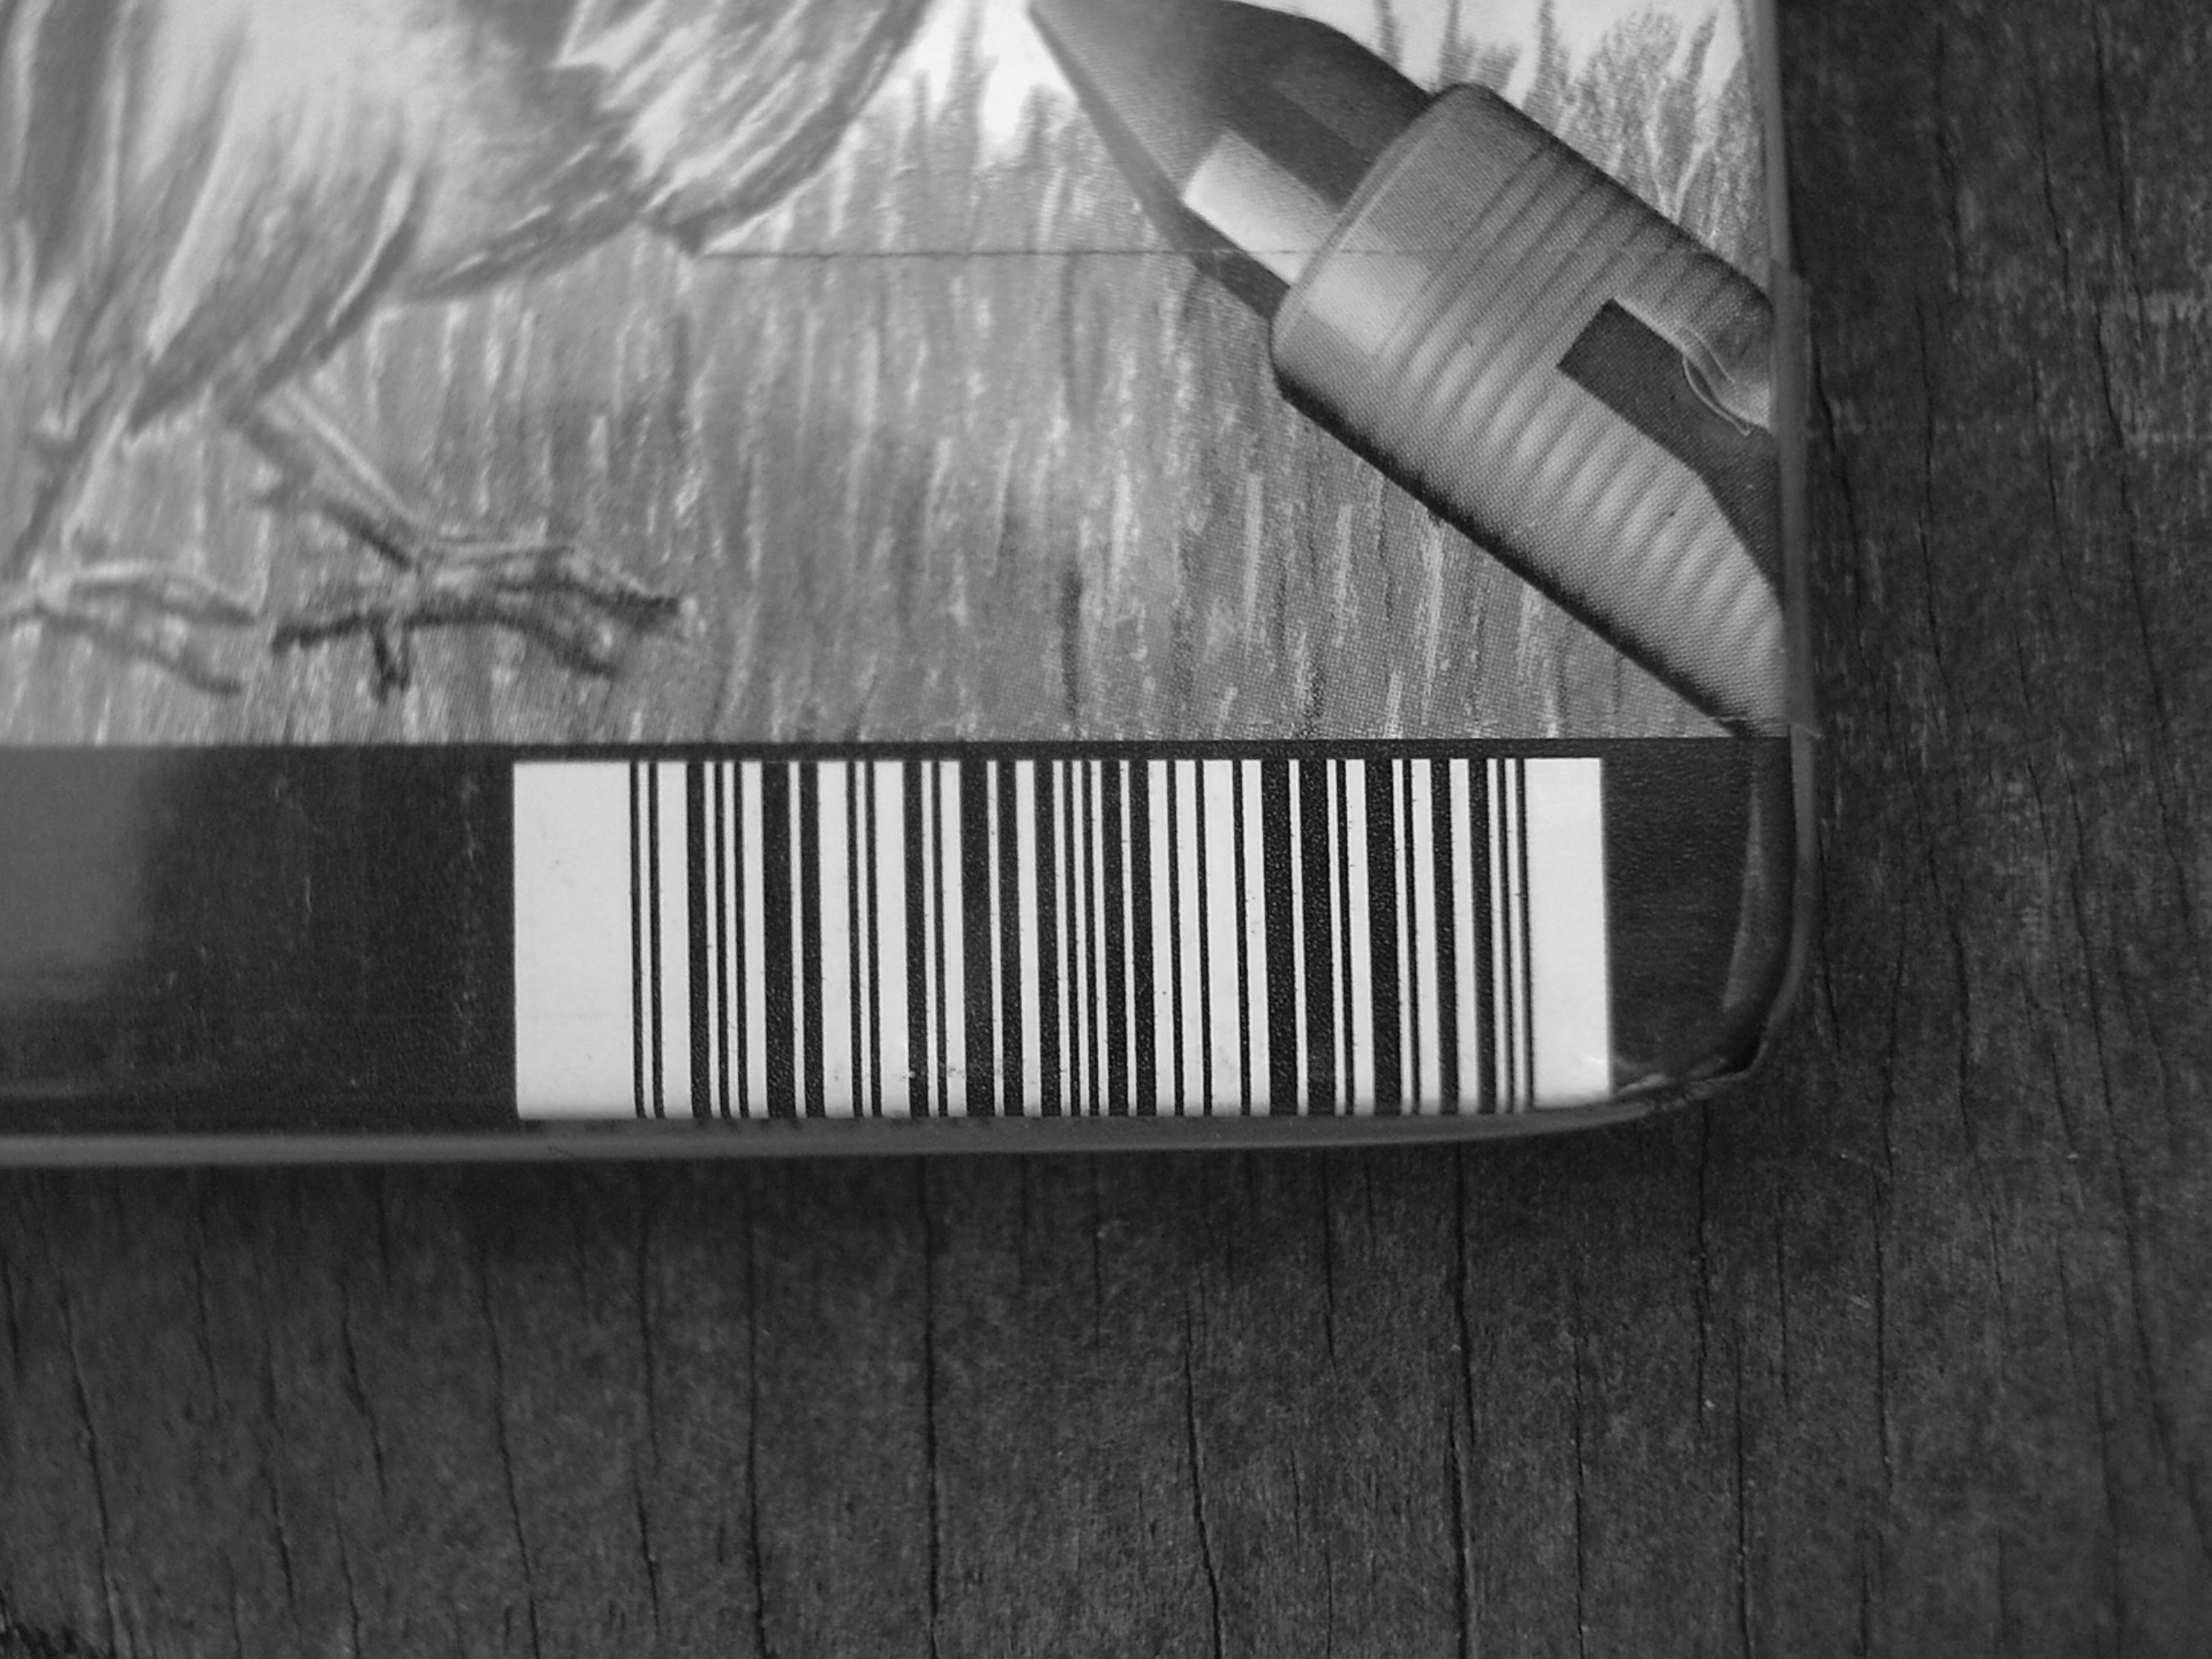Barcode: (538, 746, 1606, 1148)
